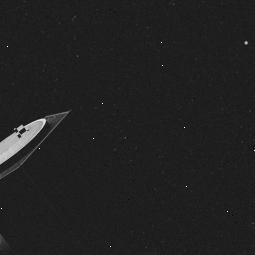cheops: (0, 84, 82, 185)
